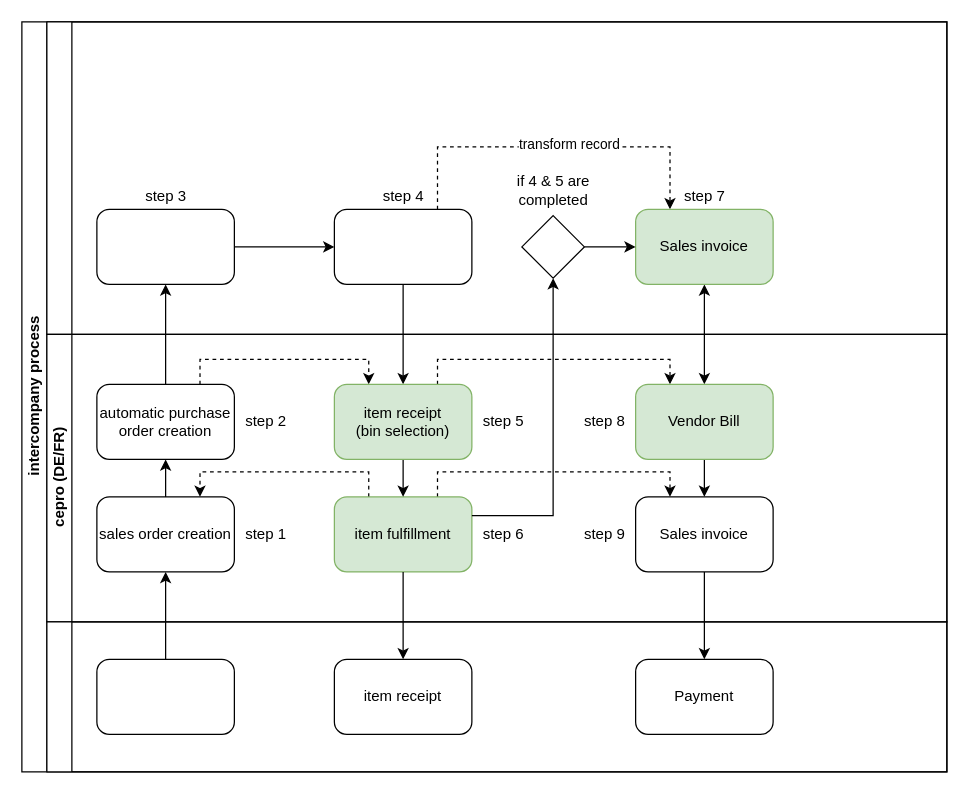
The diagram is 969 pixels wide and 794 high, and some of its shapes have lost their labels. The box of each missing label's shape, as (x1, y1, x2, y2) in pixels:
Cepro INT: (46, 21, 947, 334)
client: (46, 621, 947, 772)
item fulfillment (bin selection): (333, 208, 472, 284)
places order: (96, 658, 234, 734)
SO creation: (96, 208, 234, 284)
